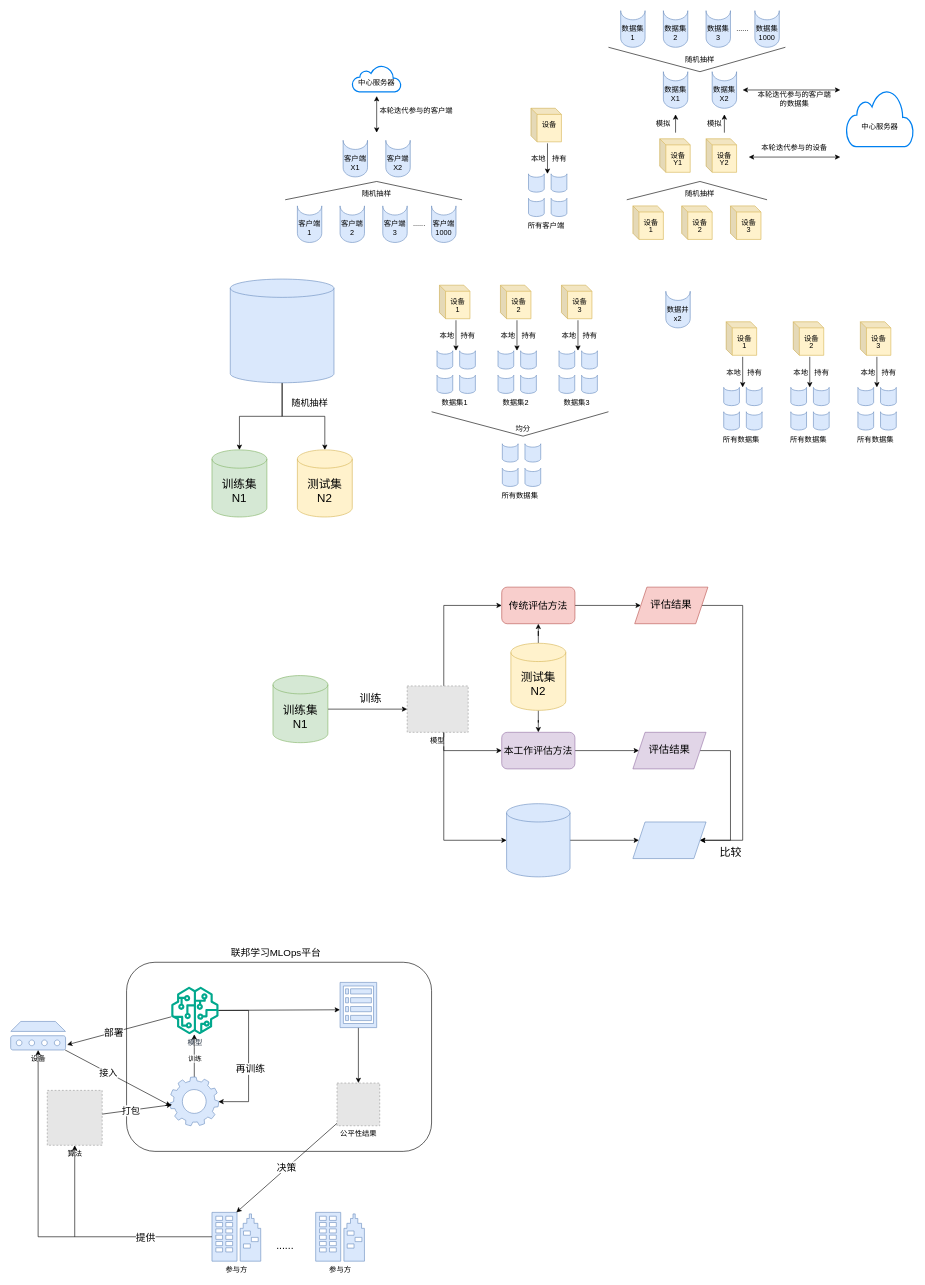
Some shapes in this 925 by 1285 pixel diagram are drawn without their labels. Grey dashed boxes stand in for pictures. Here are the shapes that lost their labels. From the top down, the centre of each, then its label:
(x=282, y=330): 一个规模较大的数据集 （模拟生产环境中产生的数据） N
(x=538, y=840): 使用生产环境数据集（N）评估
(x=669, y=840): 评估结果 （基准）
(x=358, y=1005): 评估模块
(x=194, y=1101): 训练模块
